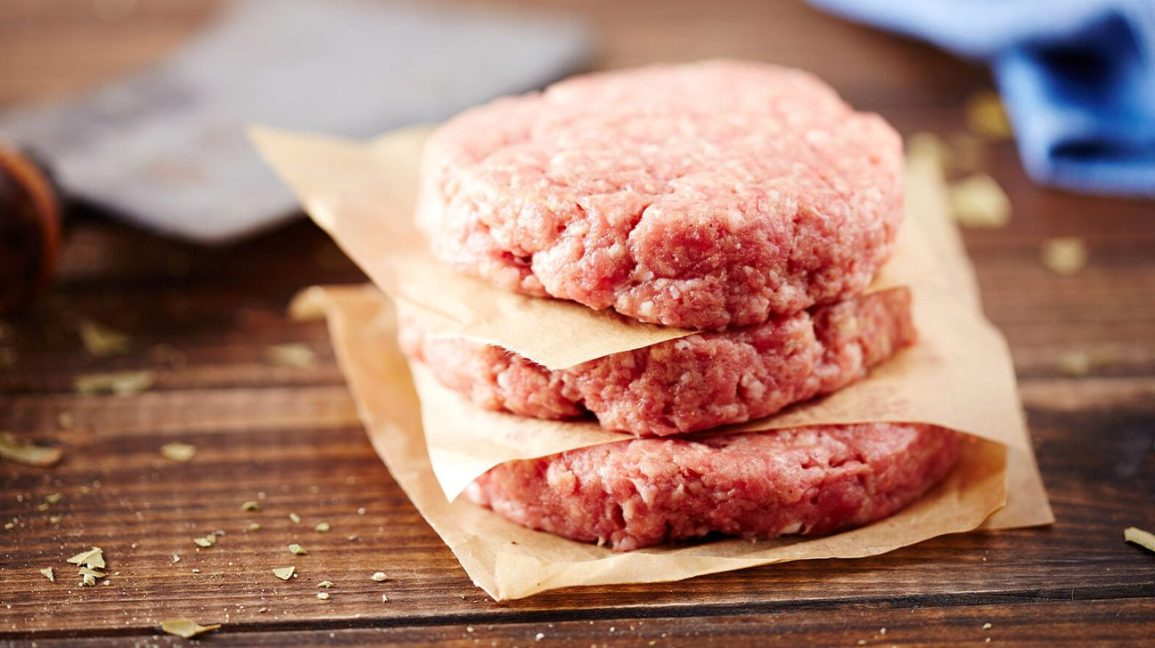ground_beef: (424, 31, 852, 275), (401, 399, 1012, 545), (591, 310, 890, 425)
